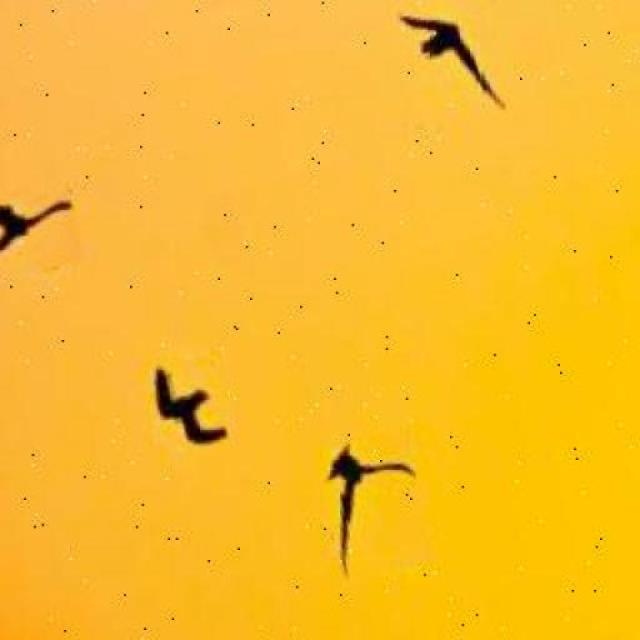airplane: (312, 429, 435, 582), (396, 0, 506, 130), (146, 354, 228, 454), (0, 189, 84, 285)
